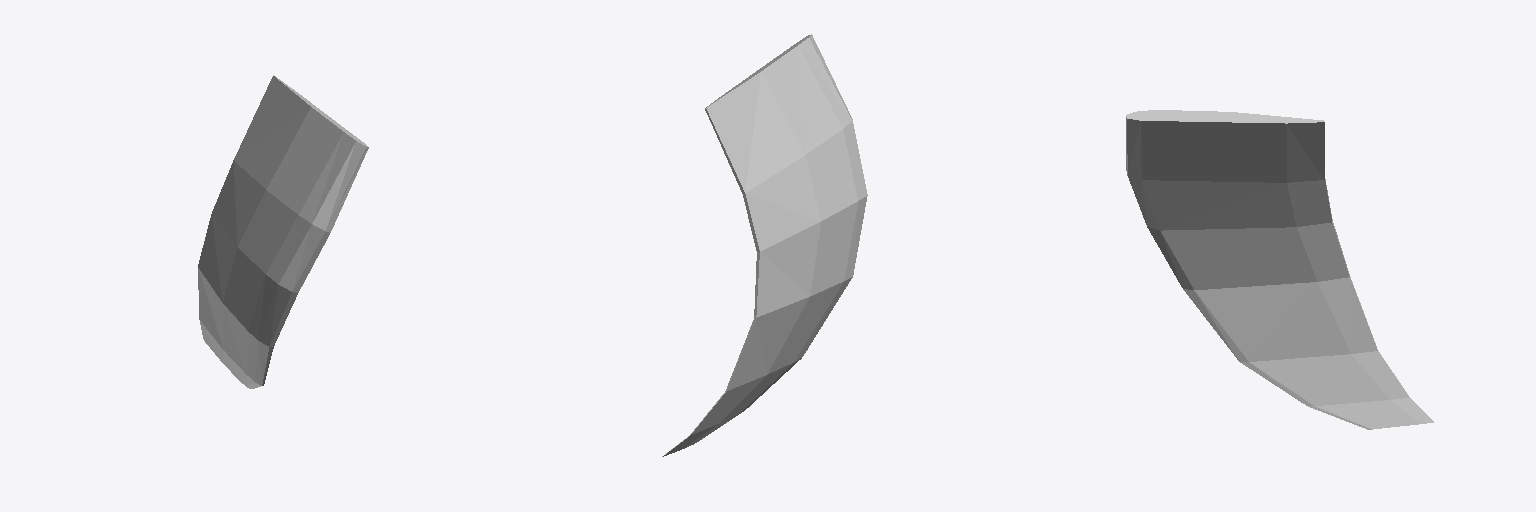
File: playerspaceship_wingBig_right.obj
3 views of the same model, side by side, from view 1: azimuth 30°, elevation 25°; view 2: azimuth 150°, elevation 25°; view 3: azimuth 270°, elevation 25° (orthographic).
Visible parts, largest first — view 1: Wing.005_Cylinder.006; view 2: Wing.005_Cylinder.006; view 3: Wing.005_Cylinder.006.
Part boxes in pixels (x1,y1,x2,y2): Wing.005_Cylinder.006: (198, 75, 368, 388); Wing.005_Cylinder.006: (662, 34, 867, 456); Wing.005_Cylinder.006: (1126, 110, 1433, 429).
Size of the model in its own units: 3.62 by 13.18 by 11.51.